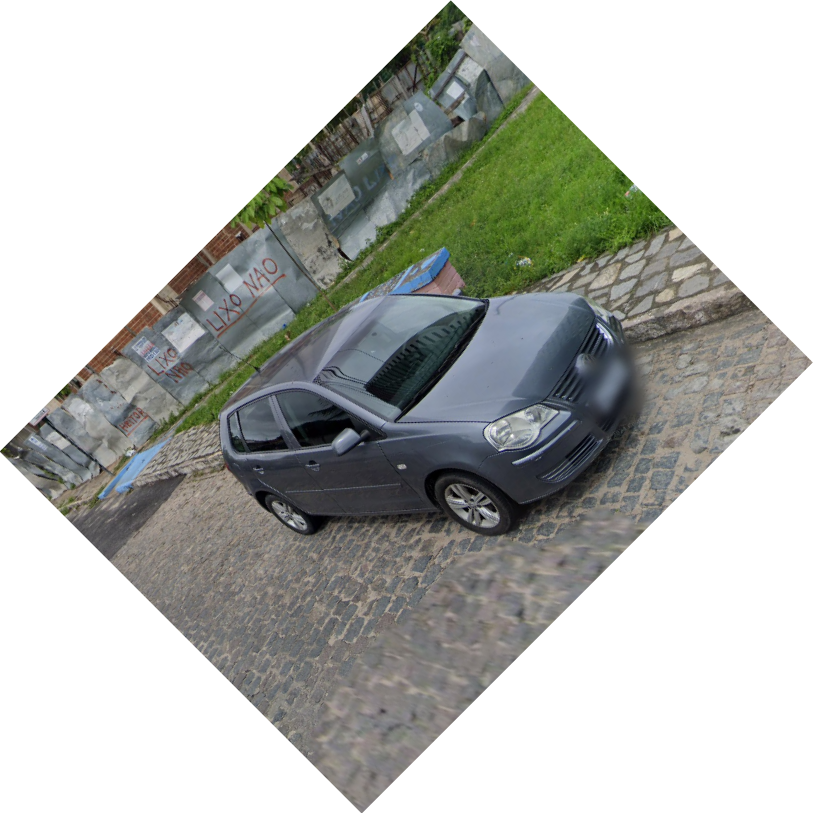car: (215, 289, 641, 540)
